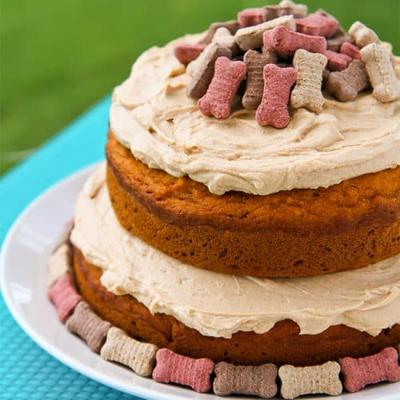cake: (69, 22, 399, 368)
